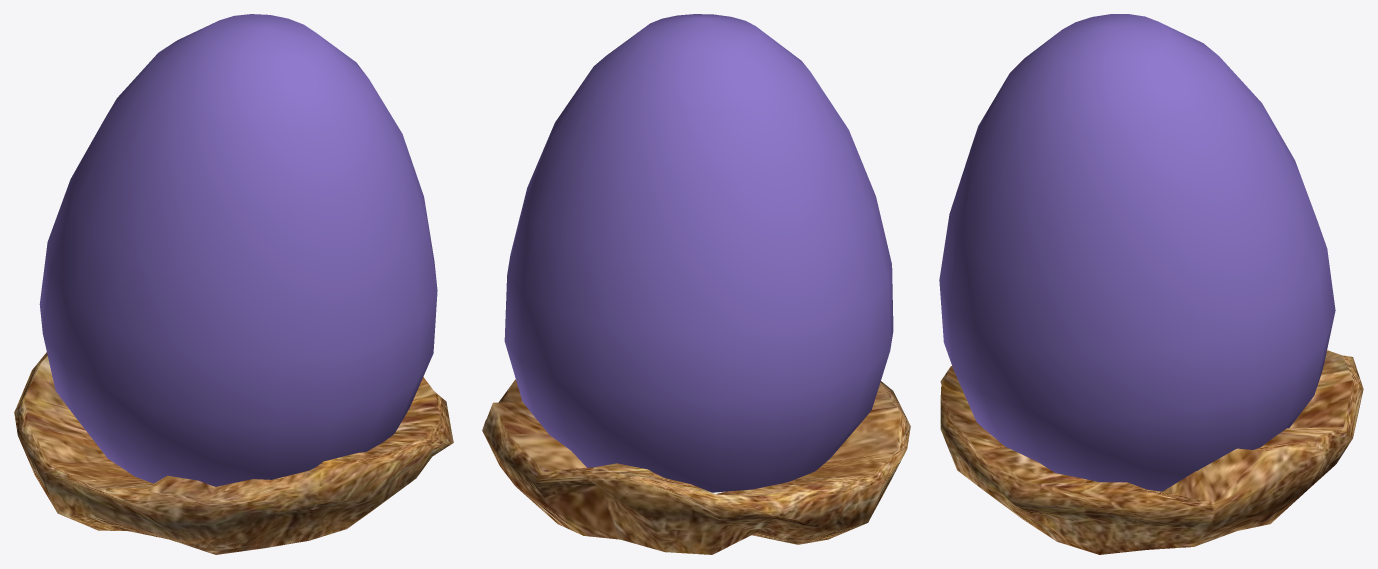
File: Egg.FBX
3 views of the same model, side by side, from view 1: azimuth 30°, elevation 25°; view 2: azimuth 150°, elevation 25°; view 3: azimuth 270°, elevation 25° (orthographic).
Visible parts, largest first — view 1: Egg; view 2: Egg; view 3: Egg.
Boxes of the visible parts, x1=… form: Egg: x1=14, y1=14, x2=453, y2=554; Egg: x1=482, y1=14, x2=910, y2=554; Egg: x1=939, y1=14, x2=1363, y2=554.
Bounding box in the file's own units: 69.54 × 84.77 × 68.03.
2 materials, 1 textured.
